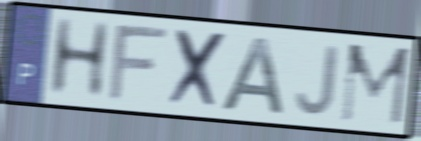A: (218, 34, 289, 119)
F: (105, 24, 173, 104)
H: (44, 15, 114, 99)
J: (293, 43, 341, 119)
M: (338, 41, 413, 128)
X: (166, 26, 231, 113)
